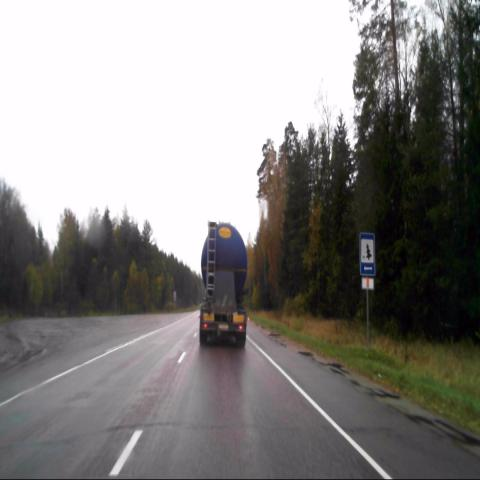7_11: (358, 232, 377, 278)
